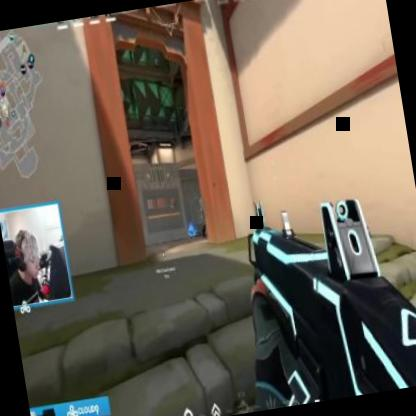enemy: (197, 193, 213, 239)
